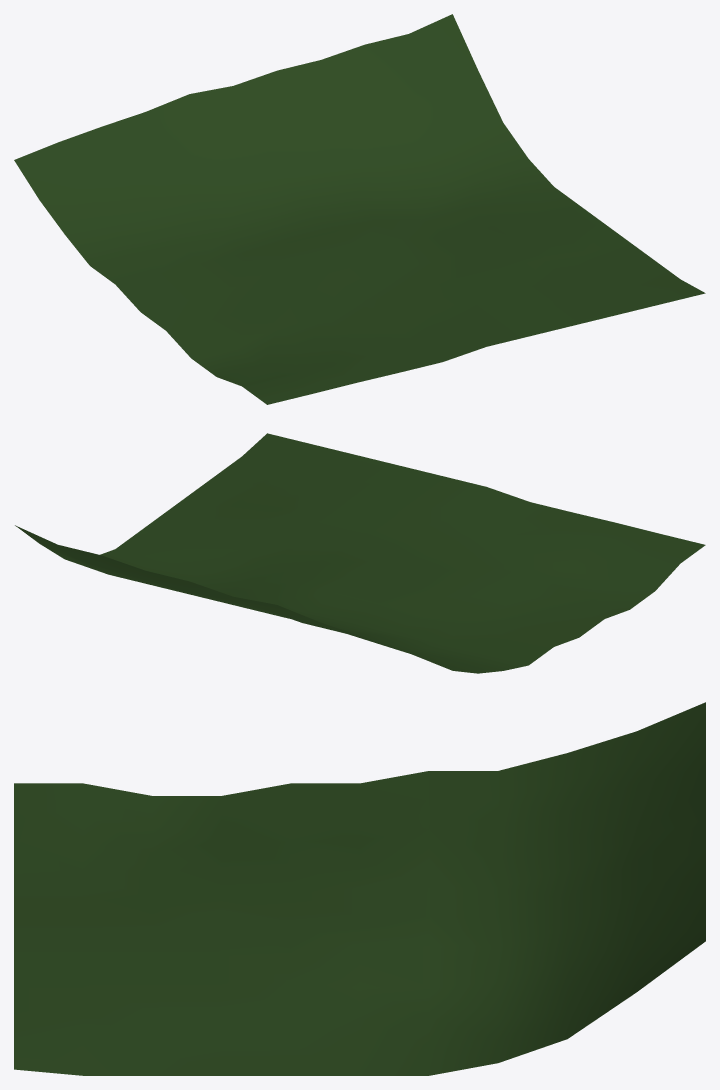
3 views of the same model, one above another, from view 1: azimuth 30°, elevation 25°; view 2: azimuth 150°, elevation 25°; view 3: azimuth 270°, elevation 25° (orthographic). The views are drawn at different scales.
Visible parts, largest first — view 1: TerrainModel.018; view 2: TerrainModel.018; view 3: TerrainModel.018.
Boxes of the visible parts, box(x1,y1,x2,y2) form: TerrainModel.018: box(14, 14, 705, 404); TerrainModel.018: box(15, 433, 705, 673); TerrainModel.018: box(14, 702, 705, 1075).
Bounding box in the file's own units: 19608 × 4600 × 19608.
